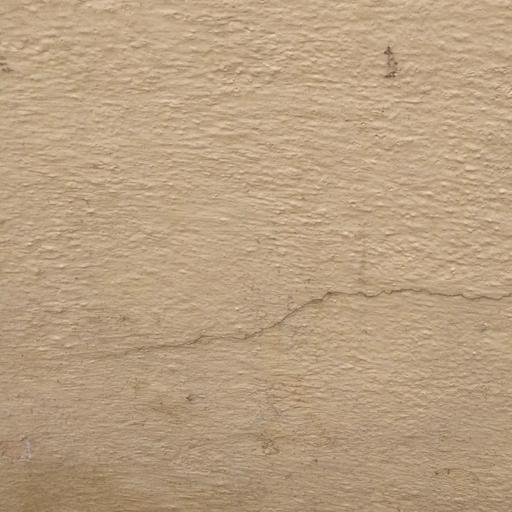minor_crack: (12, 270, 512, 377)
